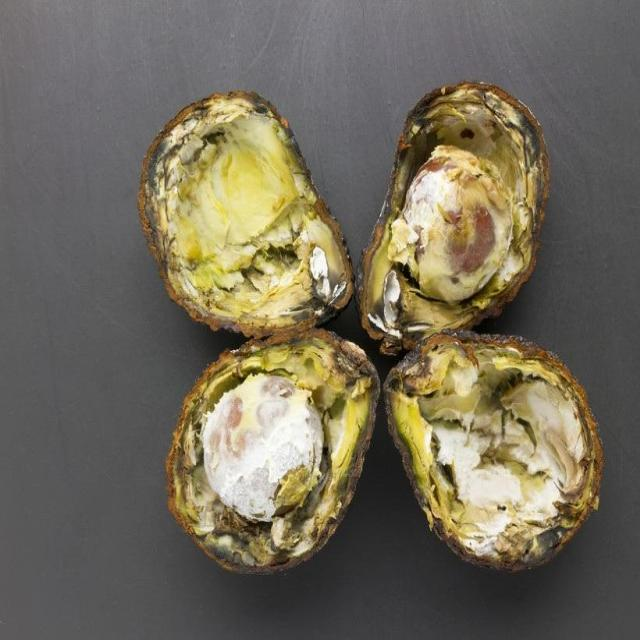Wet Waste: (136, 79, 603, 581)
